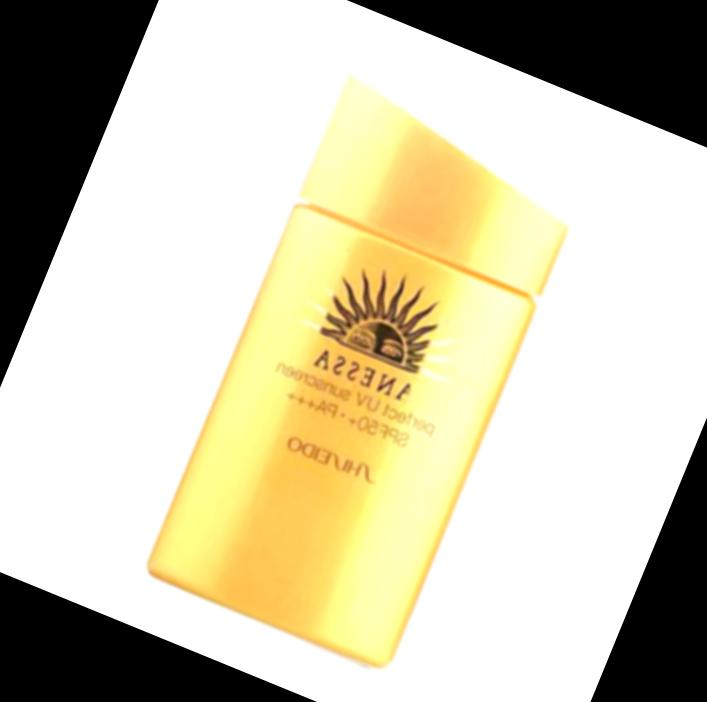cosmetic: (143, 56, 596, 671)
